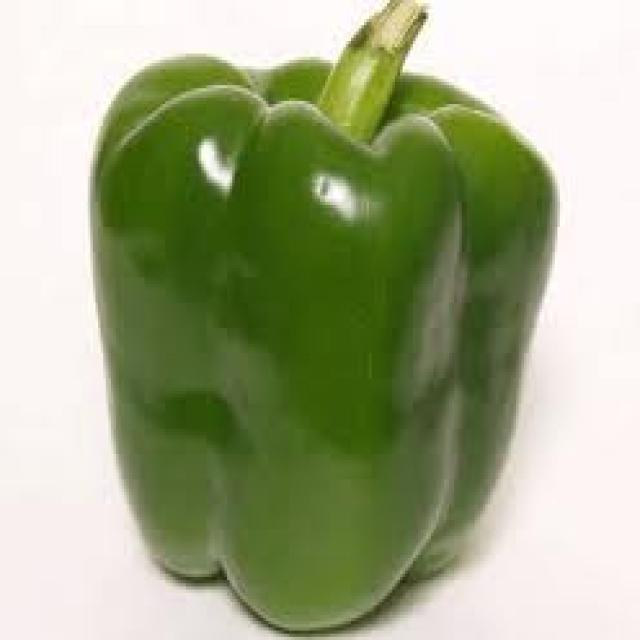capsicum: (49, 0, 601, 637)
